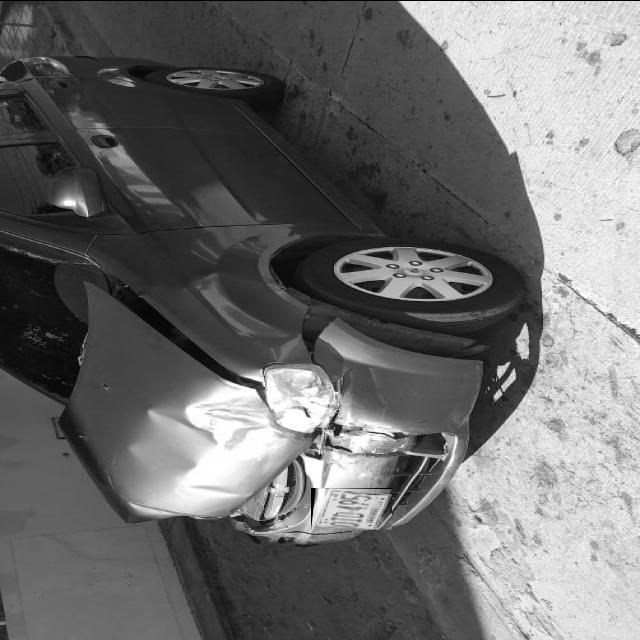plate: (311, 487, 392, 530)
